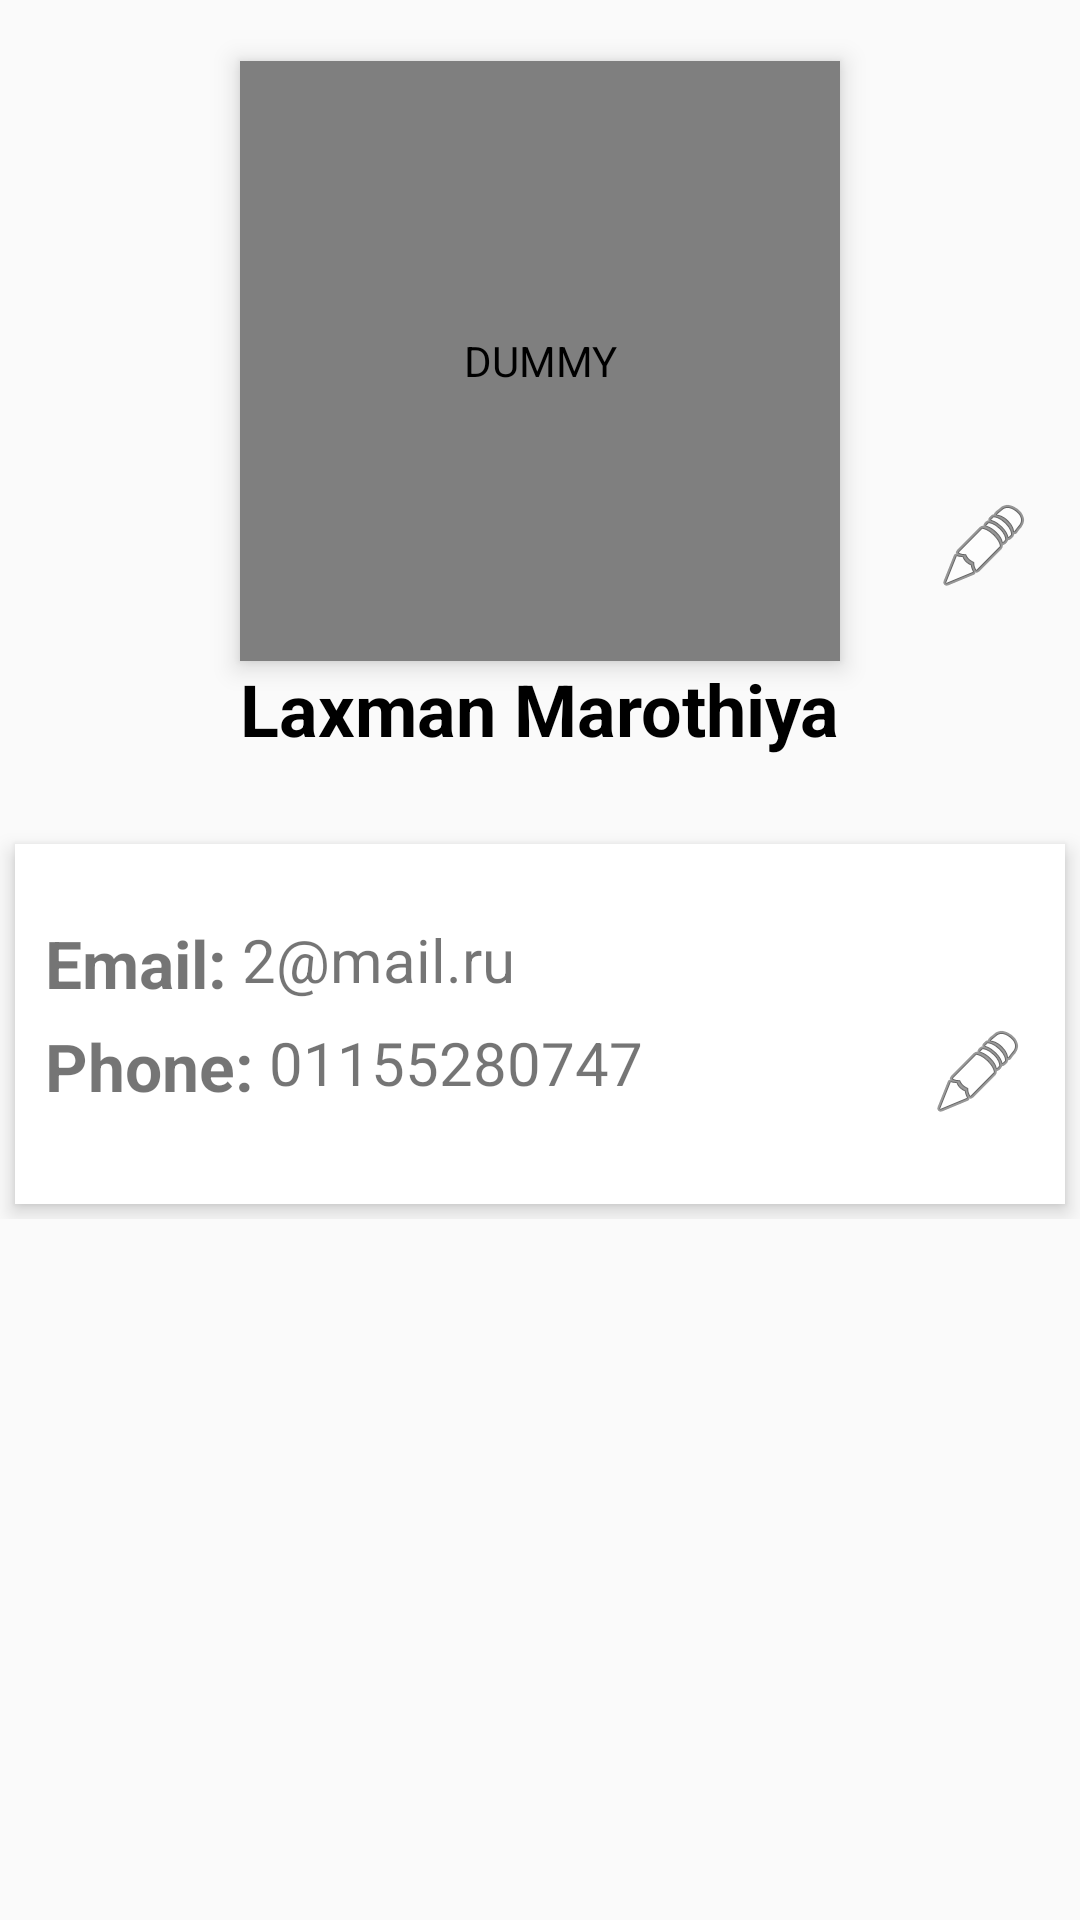

Locate icon controls on the screen. Image size 1080px x 1920px, boxes as (x1=x1, y1=y1, x2=x2, y2=y2).
edit: (x1=937, y1=1031, x2=1018, y2=1112)
edit profile: (x1=943, y1=505, x2=1024, y2=586)
